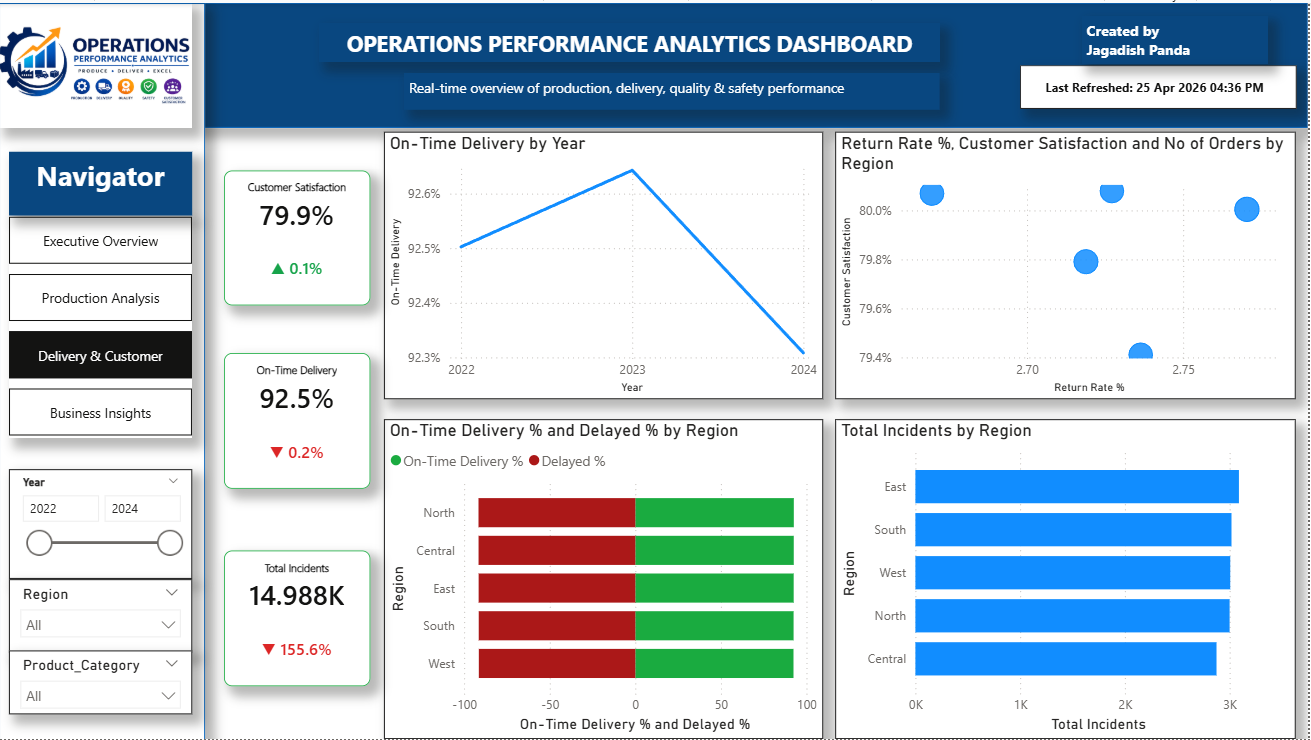

The dashboard page shown, as its layout file describes it:
{"tool":"powerbi","page":{"name":"Delivery & Customer","canvas":[1280,720],"ordinal":2},"visuals":[{"type":"shape","box":[0,0,1280.3,122.2],"z":0},{"type":"shape","box":[0,0,201.7,721.8],"z":1000},{"type":"image","box":[0,0,188.5,122.5],"z":2000},{"type":"textbox","box":[313,20.1,607.5,38.5],"z":3000},{"type":"cardVisual","fields":{"Data":["Sheet1.Last Refreshed"]},"box":[999,61.7,270.3,42.5],"z":4000},{"type":"textbox","box":[396.2,68.6,523.7,35.6],"z":5000},{"type":"pageNavigator","box":[9.4,209.2,179,216.7],"z":6000},{"type":"textbox","box":[9.4,145.1,179,62.2],"z":7000},{"type":"slicer","fields":{"Values":["Sheet1.Production_Date.Variation.Date Hierarchy.Year"]},"box":[9.4,456.1,179,107.4],"z":8000},{"type":"slicer","fields":{"Values":["Sheet1.Region"]},"box":[9.4,563.5,179,71.6],"z":9000},{"type":"slicer","fields":{"Values":["Sheet1.Product_Category"]},"box":[9.4,633.2,179,62.2],"z":10000},{"type":"lineChart","fields":{"Y":["Sheet1.On-Time Delivery"],"Category":["Sheet1.Delivery_Date.Variation.Date Hierarchy.Year"]},"box":[376.9,126.3,429.7,262],"z":11000},{"type":"scatterChart","fields":{"X":["Sheet1.Return Rate %"],"Y":["Sheet1.Customer Satisfaction"],"Size":["Sheet1.No of Orders"],"Category":["Sheet1.Region"]},"box":[817.9,126.3,450.4,262],"z":12000},{"type":"barChart","fields":{"Category":["Sheet1.Region"],"Y":["Sheet1.On-Time Delivery %","Sheet1.Delayed %"]},"box":[376.9,407.1,429.7,312.8],"z":13000},{"type":"barChart","fields":{"Category":["Sheet1.Region"],"Y":["Sheet1.Total Incidents"]},"box":[817.9,407.1,450.4,312.8],"z":14000},{"type":"cardVisual","fields":{"Data":["Sheet1.On-Time Delivery %"]},"box":[220.5,343,143,133],"z":15000},{"type":"cardVisual","fields":{"Data":["Sheet1.Customer Satisfaction"]},"box":[220.5,164,143.2,131.9],"z":16000},{"type":"cardVisual","fields":{"Data":["Sheet1.Total Incidents"]},"box":[220.5,535.2,143,133],"z":17000},{"type":"textbox","box":[1059.4,11.7,182.4,46.9],"z":18000}]}

Visuals, with their boxes in screenshot pixels (x1, y1, x2, y2), scaled from the page's 1280x720 canvas onto the 1311x740 screenshot:
shape: 0, 0, 1310, 126
shape: 0, 0, 207, 739
image: 0, 0, 193, 126
textbox: 321, 21, 943, 60
cardVisual - Sheet1.Last Refreshed: 1023, 63, 1300, 107
textbox: 406, 71, 942, 107
pageNavigator: 10, 215, 193, 438
textbox: 10, 149, 193, 213
slicer - Sheet1.Production_Date.Variation.Date Hierarchy.Year: 10, 469, 193, 579
slicer - Sheet1.Region: 10, 579, 193, 653
slicer - Sheet1.Product_Category: 10, 651, 193, 715
lineChart - Sheet1.On-Time Delivery x Sheet1.Delivery_Date.Variation.Date Hierarchy.Year: 386, 130, 826, 399
scatterChart - Sheet1.Return Rate % x Sheet1.Customer Satisfaction: 838, 130, 1299, 399
barChart - Sheet1.Region x Sheet1.On-Time Delivery %: 386, 418, 826, 739
barChart - Sheet1.Region x Sheet1.Total Incidents: 838, 418, 1299, 739
cardVisual - Sheet1.On-Time Delivery %: 226, 353, 372, 489
cardVisual - Sheet1.Customer Satisfaction: 226, 169, 373, 304
cardVisual - Sheet1.Total Incidents: 226, 550, 372, 687
textbox: 1085, 12, 1272, 60
